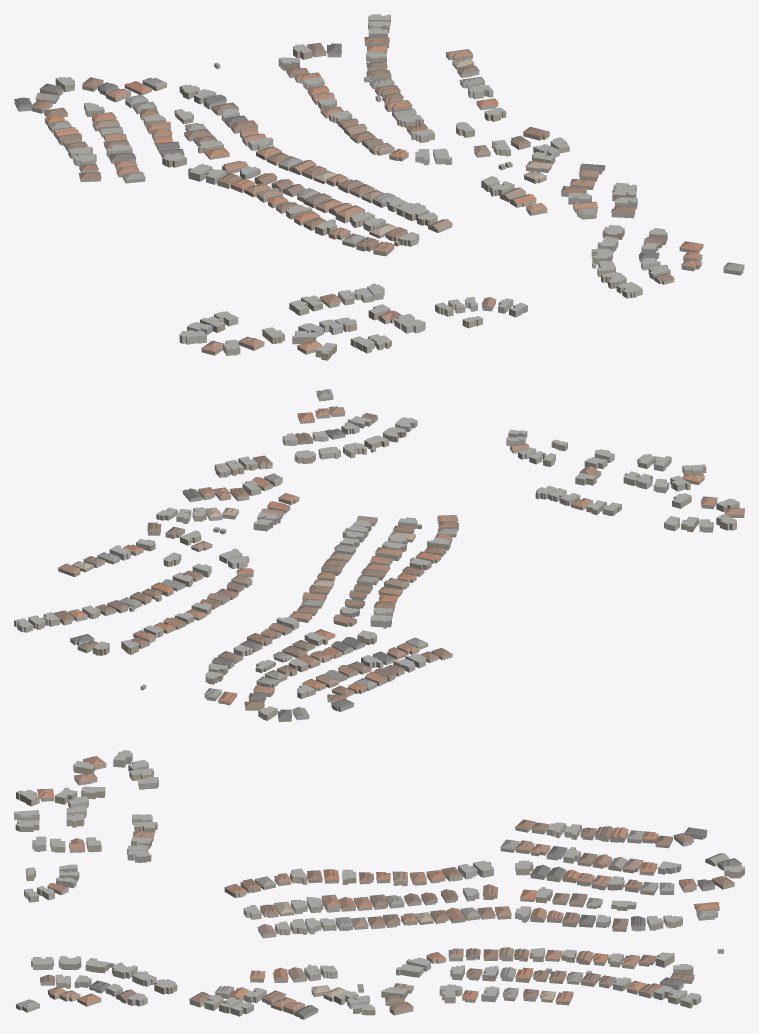
File: buildings_r0_c6.glb
The picture shows the model from 3 angles, top to bottom: view 1: azimuth 30°, elevation 25°; view 2: azimuth 150°, elevation 25°; view 3: azimuth 270°, elevation 25°; orthographic projection. The views are drawn at different scales.
Visible parts, largest first — view 1: buildings_r0_c6; view 2: buildings_r0_c6; view 3: buildings_r0_c6.
Boxes of the visible parts, x1=… form: buildings_r0_c6: x1=14, y1=14, x2=744, y2=360; buildings_r0_c6: x1=14, y1=389, x2=744, y2=721; buildings_r0_c6: x1=14, y1=750, x2=744, y2=1019.
Bounding box in the file's own units: 571 × 45.12 × 723.
